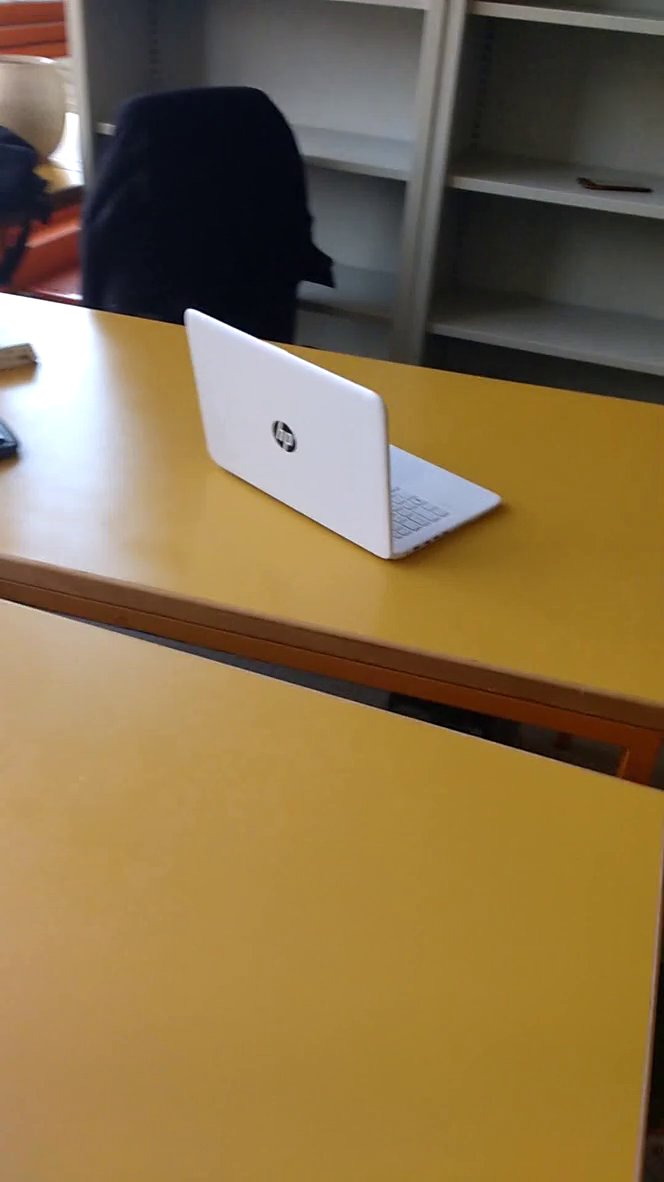chair: (79, 78, 335, 358)
laptop: (173, 294, 518, 569)
